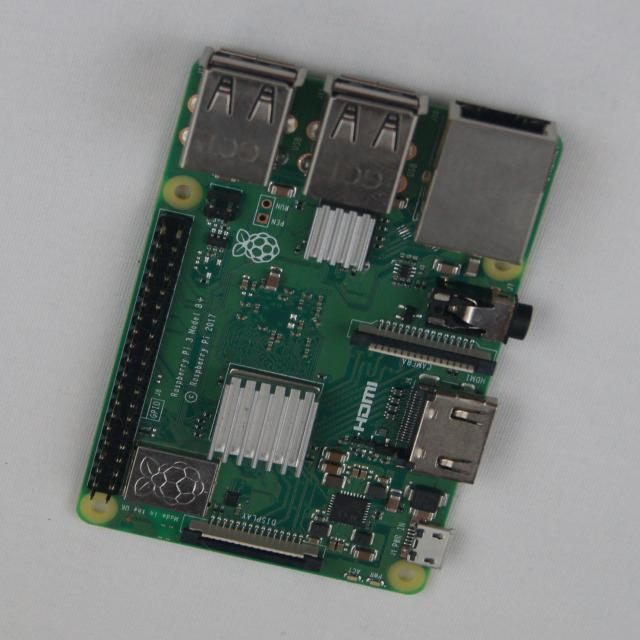Raspberry Pi 3 B-: (79, 50, 562, 594)
